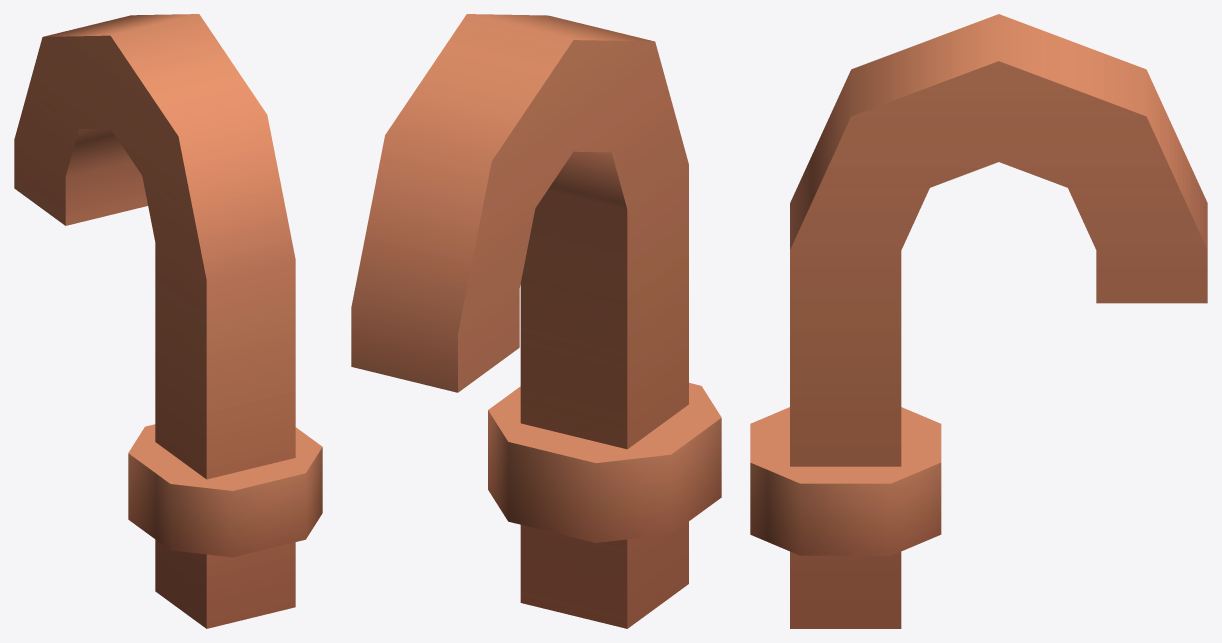
Rendered from kapp.glb.
The picture shows the model from 3 angles, left to right: view 1: azimuth 30°, elevation 25°; view 2: azimuth 150°, elevation 25°; view 3: azimuth 270°, elevation 25°; orthographic projection. The views are drawn at different scales.
Visible parts, largest first — view 1: aid-cane; view 2: aid-cane; view 3: aid-cane.
Part boxes in pixels (<box>): aid-cane: <box>14,14,322,628</box>; aid-cane: <box>351,14,721,628</box>; aid-cane: <box>750,14,1207,628</box>.
Size of the model in its own units: 0.096 by 0.315 by 0.23.
Materials: 1 (1 with a texture image).
